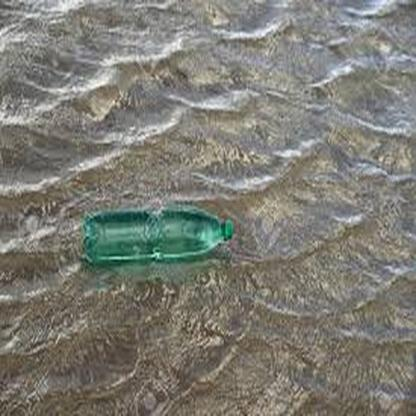plastic bag: (85, 207, 233, 261)
